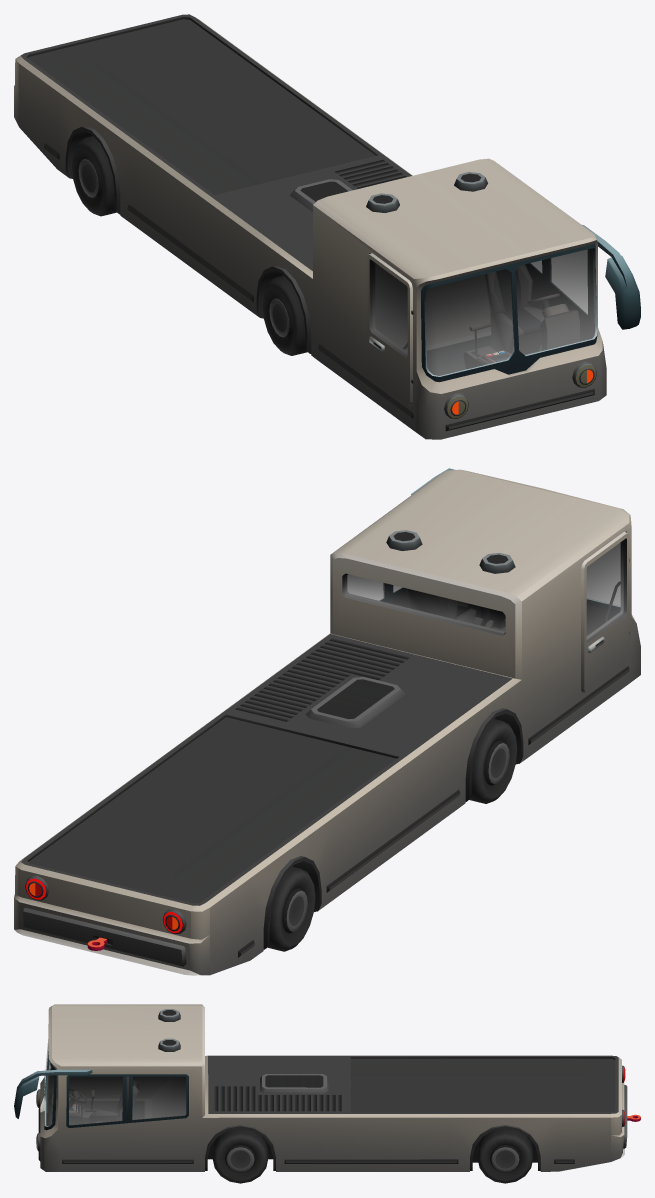
The model's file is tp_loading_truck_02a.glb.
3 renders of one model, top to bottom at view 1: azimuth 30°, elevation 25°; view 2: azimuth 150°, elevation 25°; view 3: azimuth 270°, elevation 25°, orthographic. The views are drawn at different scales.
Visible parts, largest first — view 1: TP_Loading_Truck_02A_Body, TP_Loading_Truck_02A_Door, TP_Loading_Truck_02A_Wheel_F.R, TP_Loading_Truck_02A_Wheel_R.R; view 2: TP_Loading_Truck_02A_Body, TP_Loading_Truck_02A_Door, TP_Loading_Truck_02A_Wheel_R.R, TP_Loading_Truck_02A_Wheel_F.R; view 3: TP_Loading_Truck_02A_Body, TP_Loading_Truck_02A_Wheel_F.L, TP_Loading_Truck_02A_Wheel_R.L, TP_Loading_Truck_02A_Door.
Boxes of the visible parts, x1,y1,x2,y2 form: TP_Loading_Truck_02A_Body: (14, 14, 640, 439); TP_Loading_Truck_02A_Door: (367, 253, 413, 404); TP_Loading_Truck_02A_Wheel_F.R: (262, 275, 307, 355); TP_Loading_Truck_02A_Wheel_R.R: (71, 136, 116, 216); TP_Loading_Truck_02A_Body: (14, 468, 640, 975); TP_Loading_Truck_02A_Door: (581, 531, 629, 692); TP_Loading_Truck_02A_Wheel_R.R: (267, 866, 315, 951); TP_Loading_Truck_02A_Wheel_F.R: (469, 719, 517, 803); TP_Loading_Truck_02A_Body: (14, 1004, 640, 1171); TP_Loading_Truck_02A_Wheel_F.L: (212, 1128, 268, 1183); TP_Loading_Truck_02A_Wheel_R.L: (477, 1128, 533, 1183); TP_Loading_Truck_02A_Door: (69, 1076, 122, 1095).
Bounding box in the file's own units: 3.06 × 2.6 × 11.85.
Materials: 3 (3 with a texture image).
